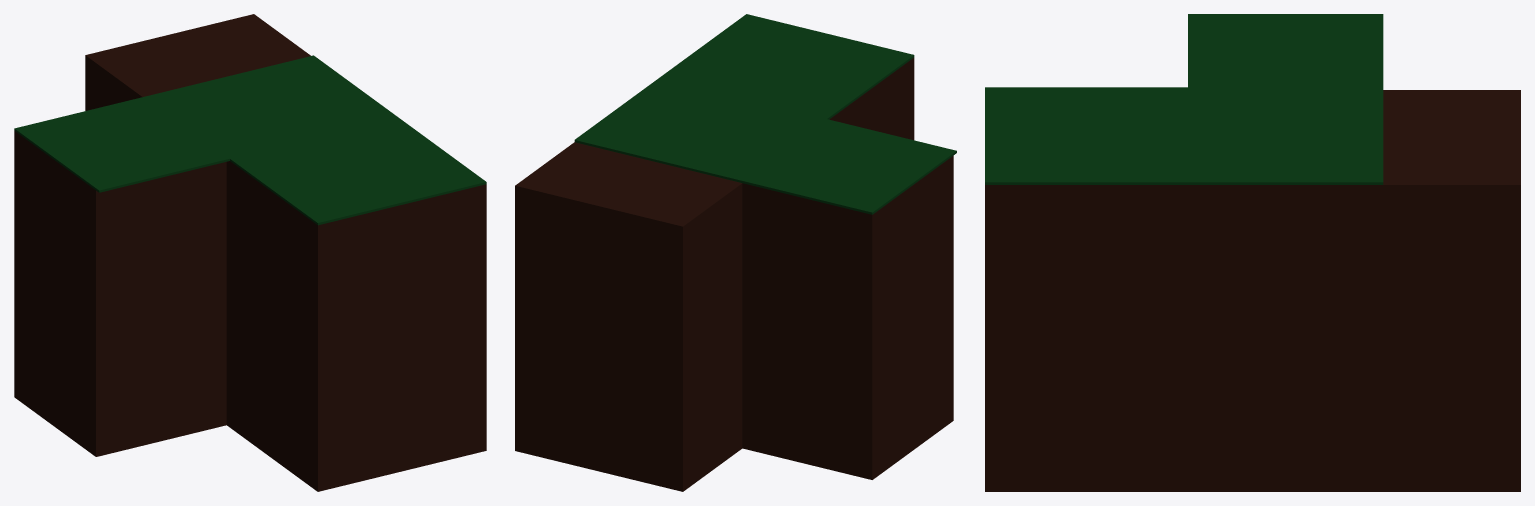
File: Texture.obj
The picture shows the model from 3 angles, left to right: view 1: azimuth 30°, elevation 25°; view 2: azimuth 150°, elevation 25°; view 3: azimuth 270°, elevation 25°; orthographic projection. The views are drawn at different scales.
Visible parts, largest first — view 1: Part2, Part4, Part3, Part1; view 2: Part2, Part4, Part3, Part1; view 3: Part2, Part3, Part1.
Part boxes in pixels (x1,y1,x2,y2): Part2: (85,14,486,491); Part4: (14,131,226,456); Part3: (14,55,398,192); Part1: (230,117,486,225); Part2: (515,57,914,491); Part4: (742,155,953,479); Part3: (574,78,956,214); Part1: (659,14,914,119); Part2: (985,90,1520,491); Part3: (1188,14,1383,184); Part1: (985,87,1187,184).
Size of the model in its own units: 55 by 47.2 by 74.
